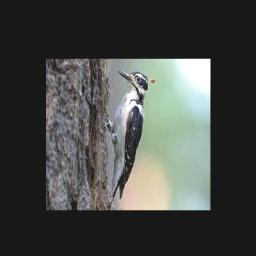Woodpecker: (104, 70, 155, 206)
